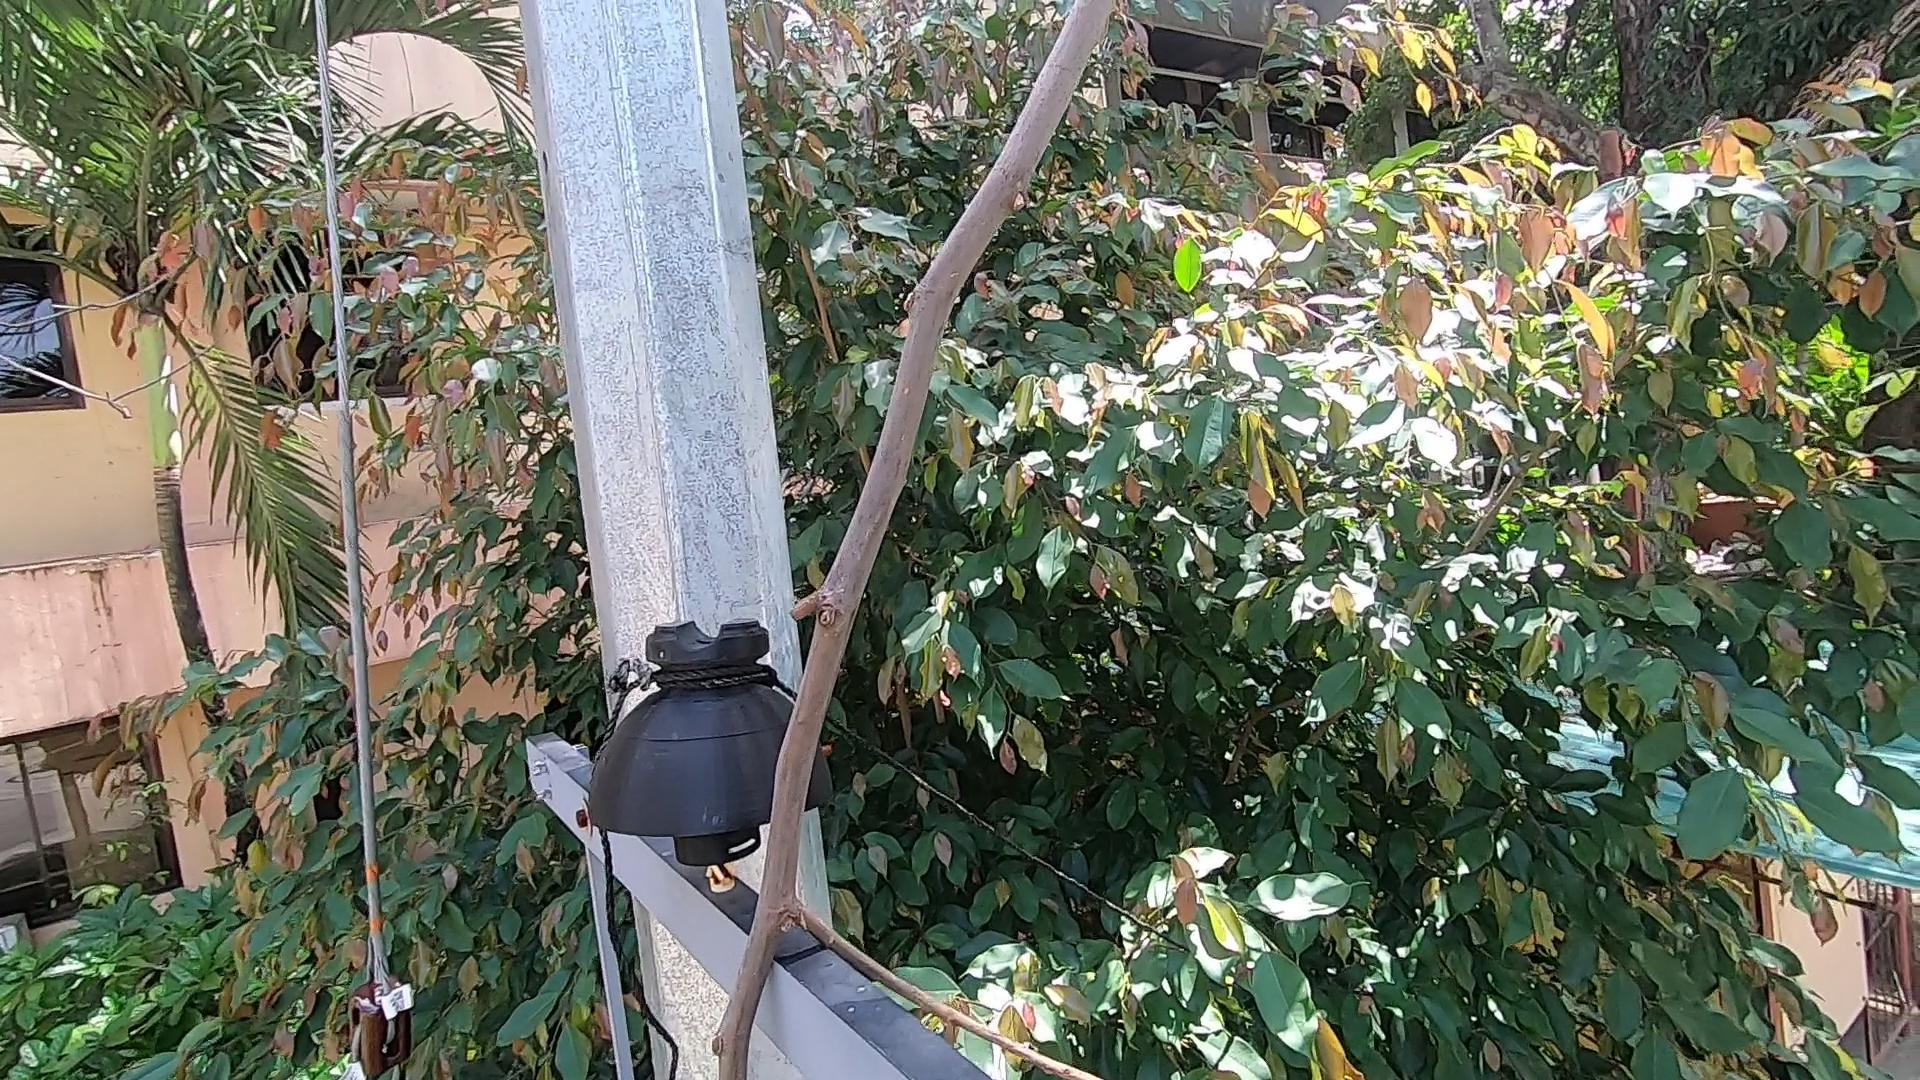tree branch: (694, 5, 1093, 1080)
